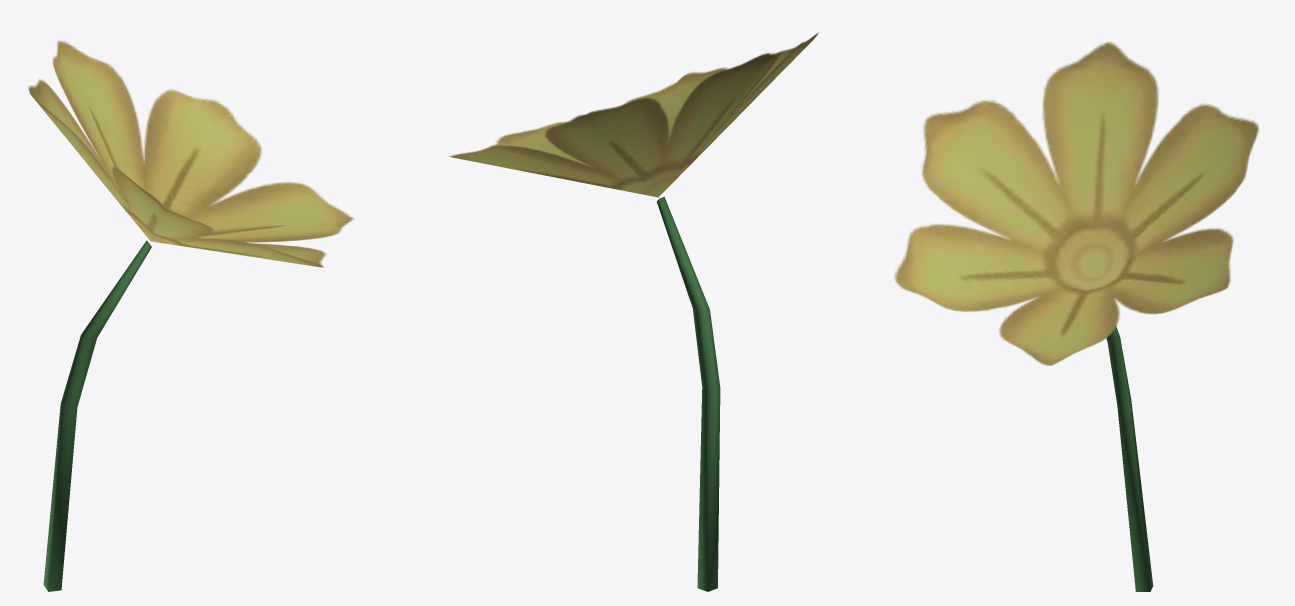
File: Flower_2.glb
3 views of the same model, side by side, from view 1: azimuth 30°, elevation 25°; view 2: azimuth 150°, elevation 25°; view 3: azimuth 270°, elevation 25° (orthographic). The views are drawn at different scales.
Parts seen in each view (by area): view 1: Flower_2; view 2: Flower_2; view 3: Flower_2.
Part boxes in pixels (left/top/right/bottom): Flower_2: left=28, top=40, right=353, bottom=591; Flower_2: left=449, top=32, right=818, bottom=591; Flower_2: left=894, top=42, right=1259, bottom=591.
Size of the model in its own units: 0.239 by 0.3613 by 0.2474.
Materials: 1 (1 with a texture image).
